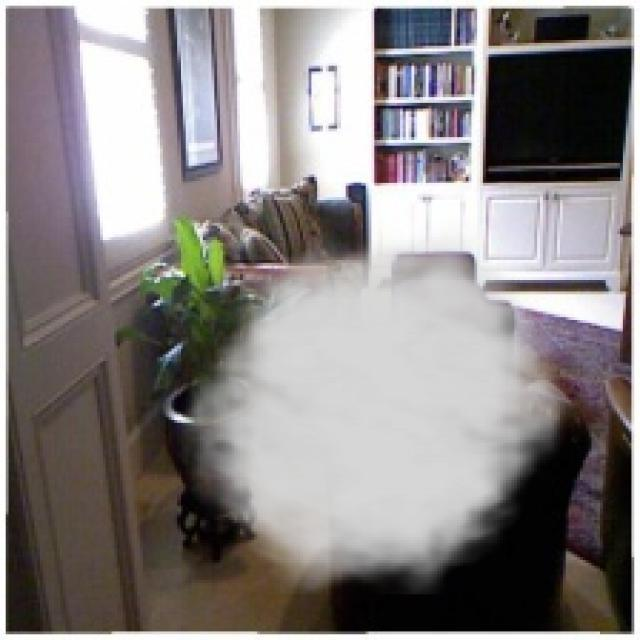Smoke: (168, 217, 583, 594)
